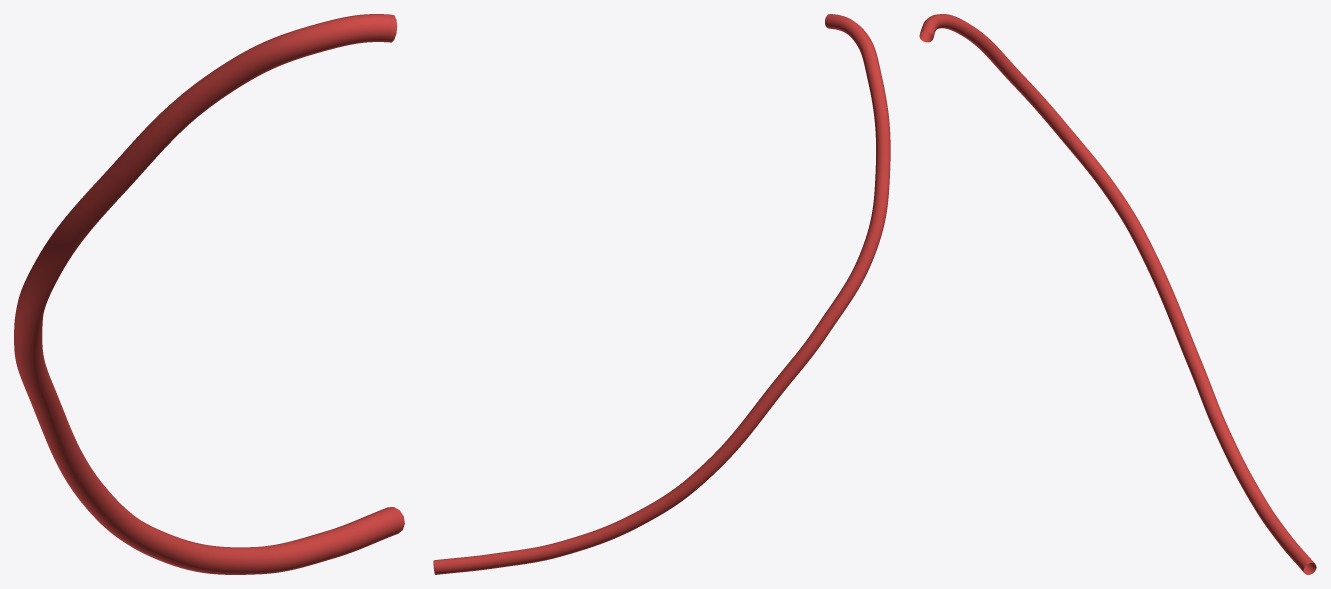
The picture shows the model from 3 angles, left to right: view 1: azimuth 30°, elevation 25°; view 2: azimuth 150°, elevation 25°; view 3: azimuth 270°, elevation 25°; orthographic projection. The views are drawn at different scales.
Visible parts, largest first — view 1: 右侧第1肋间后动脉; view 2: 右侧第1肋间后动脉; view 3: 右侧第1肋间后动脉.
Part boxes in pixels (left/top/right/bottom): 右侧第1肋间后动脉: left=14, top=14, right=404, bottom=574; 右侧第1肋间后动脉: left=433, top=14, right=890, bottom=574; 右侧第1肋间后动脉: left=919, top=14, right=1316, bottom=574.
Bounding box in the file's own units: 0.0726 × 0.1019 × 0.0809.
